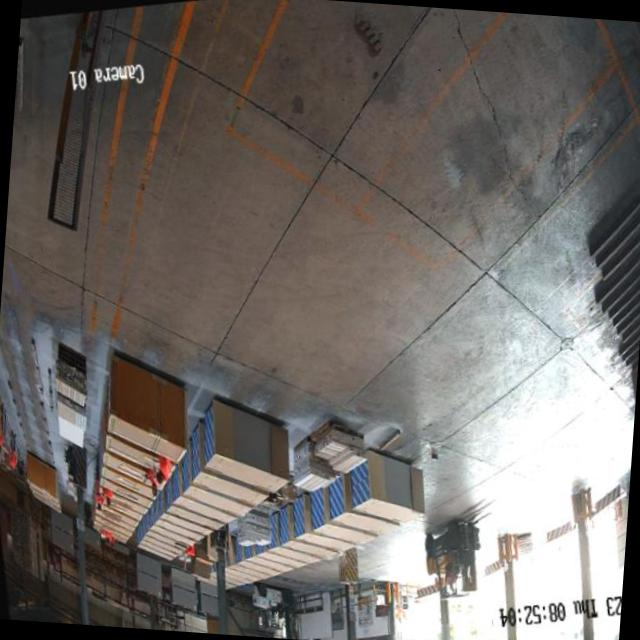forklift: (412, 510, 490, 612), (2, 104, 26, 284), (248, 577, 296, 636)
person: (153, 452, 174, 488), (5, 433, 22, 476), (145, 468, 160, 498), (92, 477, 105, 510), (102, 487, 114, 506)
